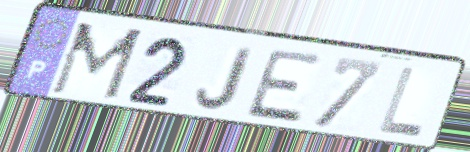2: (120, 31, 194, 110)
7: (316, 55, 386, 130)
E: (242, 47, 327, 126)
J: (193, 44, 258, 112)
L: (375, 64, 427, 140)
M: (46, 20, 147, 103)
